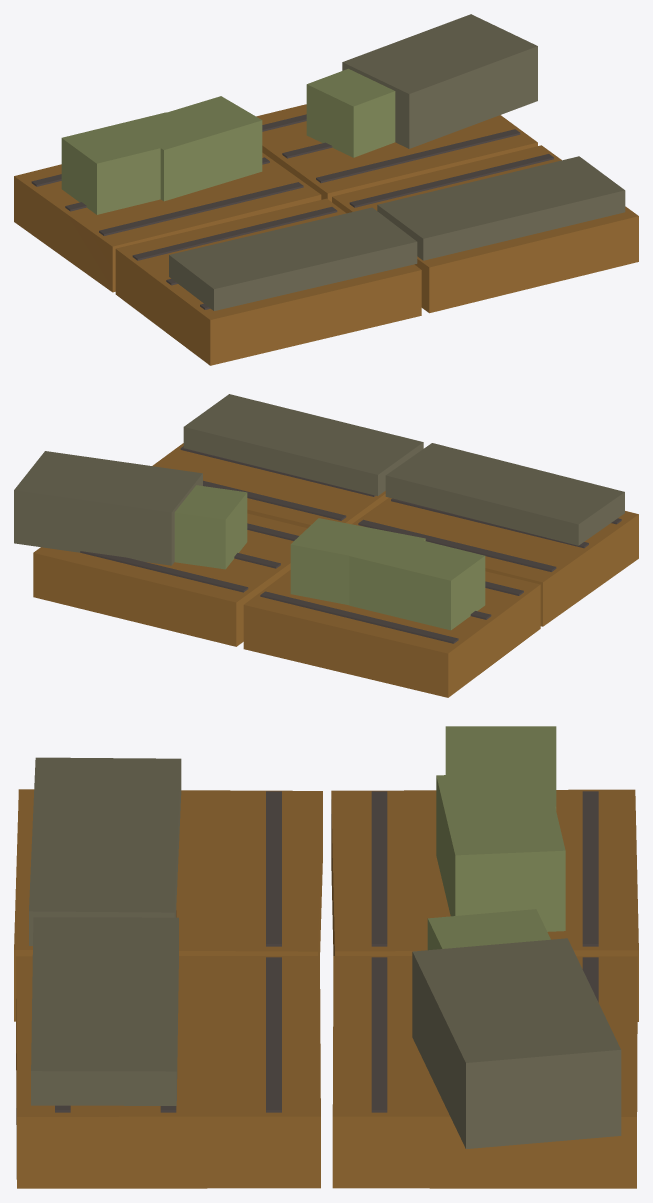
Rendered from SM_BanquetaCorta_v4_LOD0.fbx.
3 renders of one model, top to bottom at view 1: azimuth 30°, elevation 25°; view 2: azimuth 150°, elevation 25°; view 3: azimuth 270°, elevation 25°, orthographic. The views are drawn at different scales.
Parts seen in each view (by area): view 1: SM_banqueta_tiro_v14_LOD0; view 2: SM_banqueta_tiro_v14_LOD0; view 3: SM_banqueta_tiro_v14_LOD0.
Boxes of the visible parts, x1,y1,x2,y2 form: SM_banqueta_tiro_v14_LOD0: (14,14,638,365); SM_banqueta_tiro_v14_LOD0: (14,394,638,697); SM_banqueta_tiro_v14_LOD0: (14,726,638,1188).
Size of the model in its own units: 2.69 by 0.55 by 1.97.
